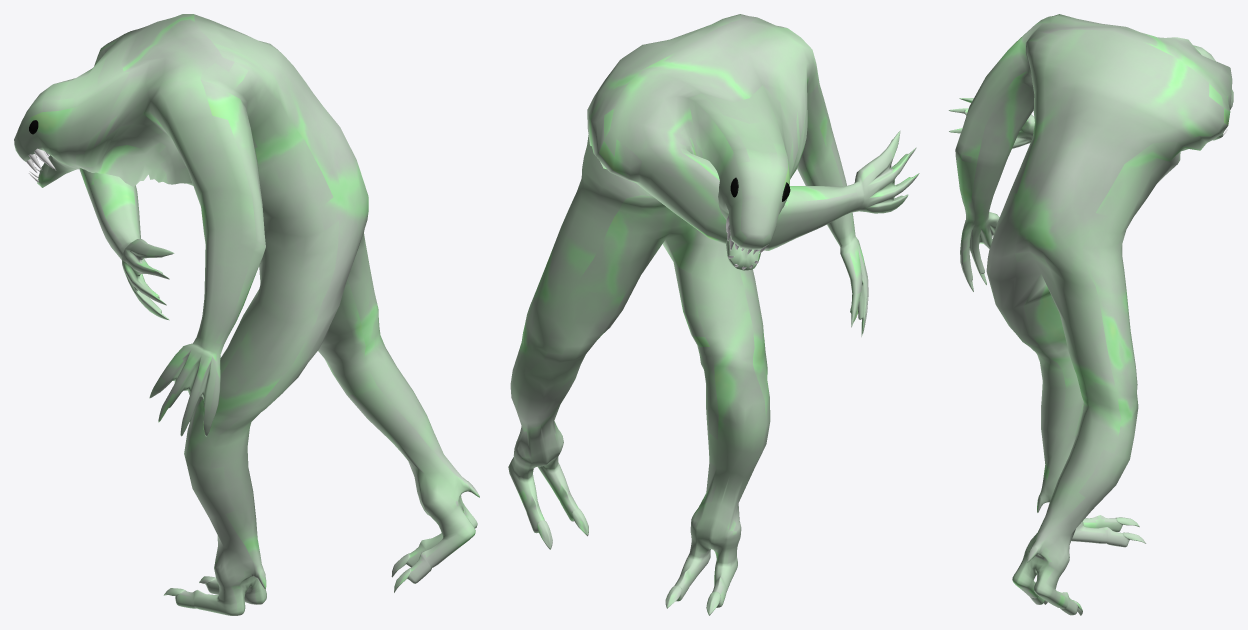
File: Berserkeraranar.0042.obj
3 views of the same model, side by side, from view 1: azimuth 30°, elevation 25°; view 2: azimuth 150°, elevation 25°; view 3: azimuth 270°, elevation 25° (orthographic). The views are drawn at different scales.
Parts seen in each view (by area): view 1: polySurface27; view 2: polySurface27; view 3: polySurface27.
Part boxes in pixels (x1=…): polySurface27: x1=14, y1=14, x2=479, y2=615; polySurface27: x1=508, y1=14, x2=919, y2=615; polySurface27: x1=948, y1=14, x2=1233, y2=615.
Size of the model in its own units: 14.1 by 21.12 by 10.71.
Materials: 1 (1 with a texture image).
